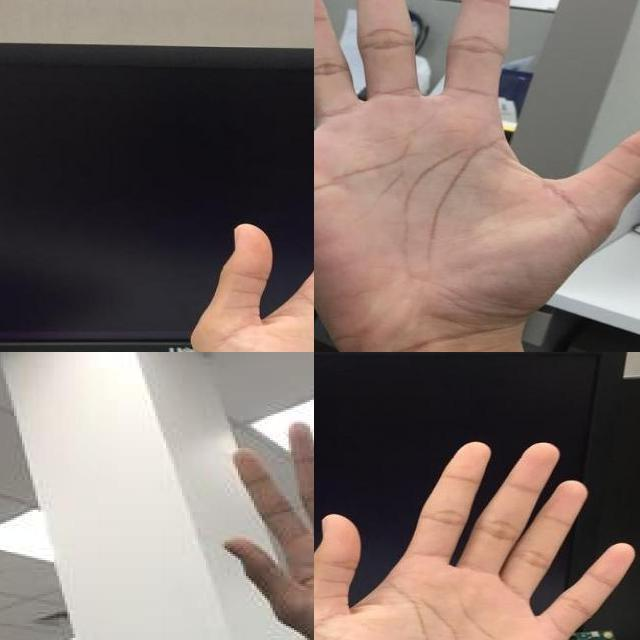hand: (314, 0, 640, 352), (314, 436, 638, 640), (134, 152, 314, 352), (205, 418, 314, 640)
